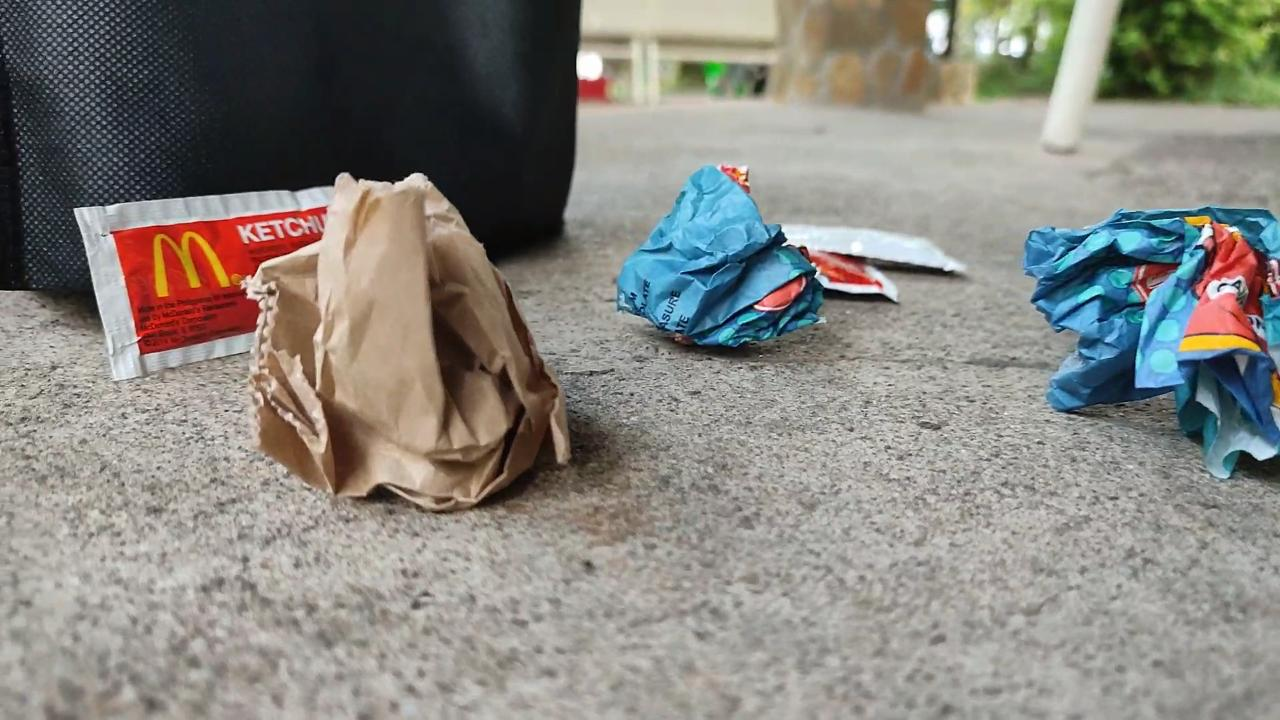Paper: (242, 152, 581, 515), (1027, 180, 1275, 472), (614, 145, 826, 375)
